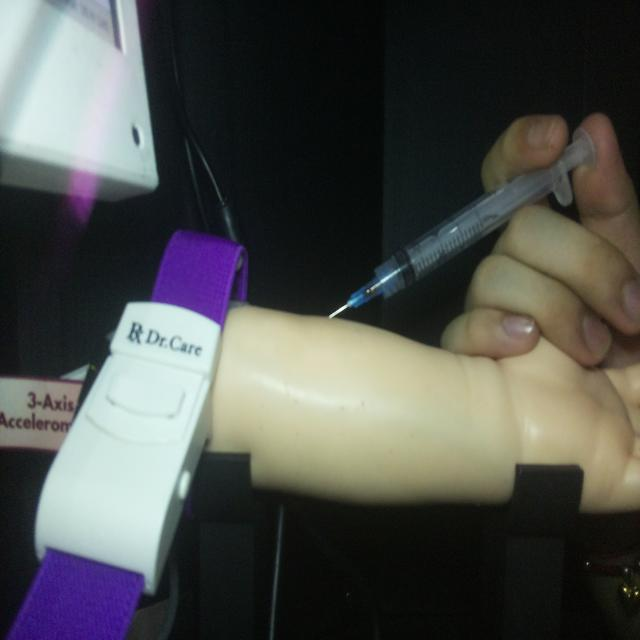25 degrees: (326, 124, 598, 322)
